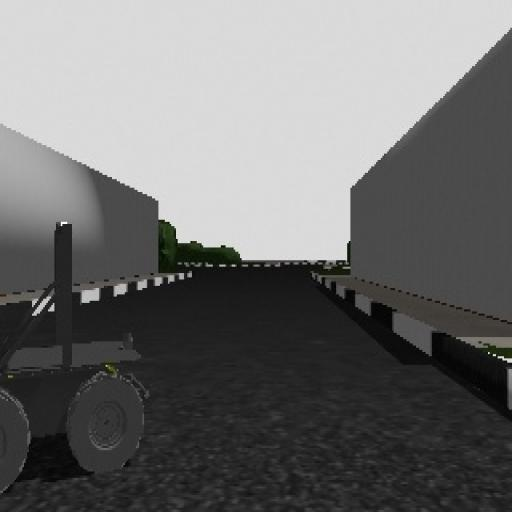huskya200: (1, 194, 164, 502)
